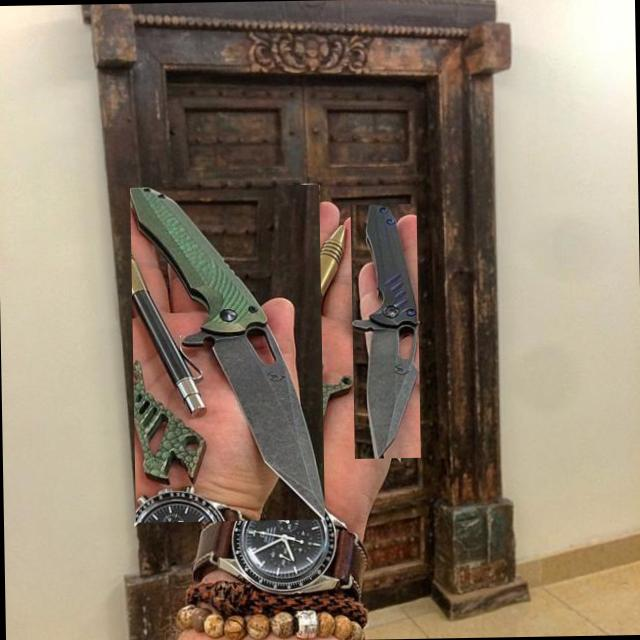Knife: (130, 187, 324, 519), (353, 204, 418, 458)
